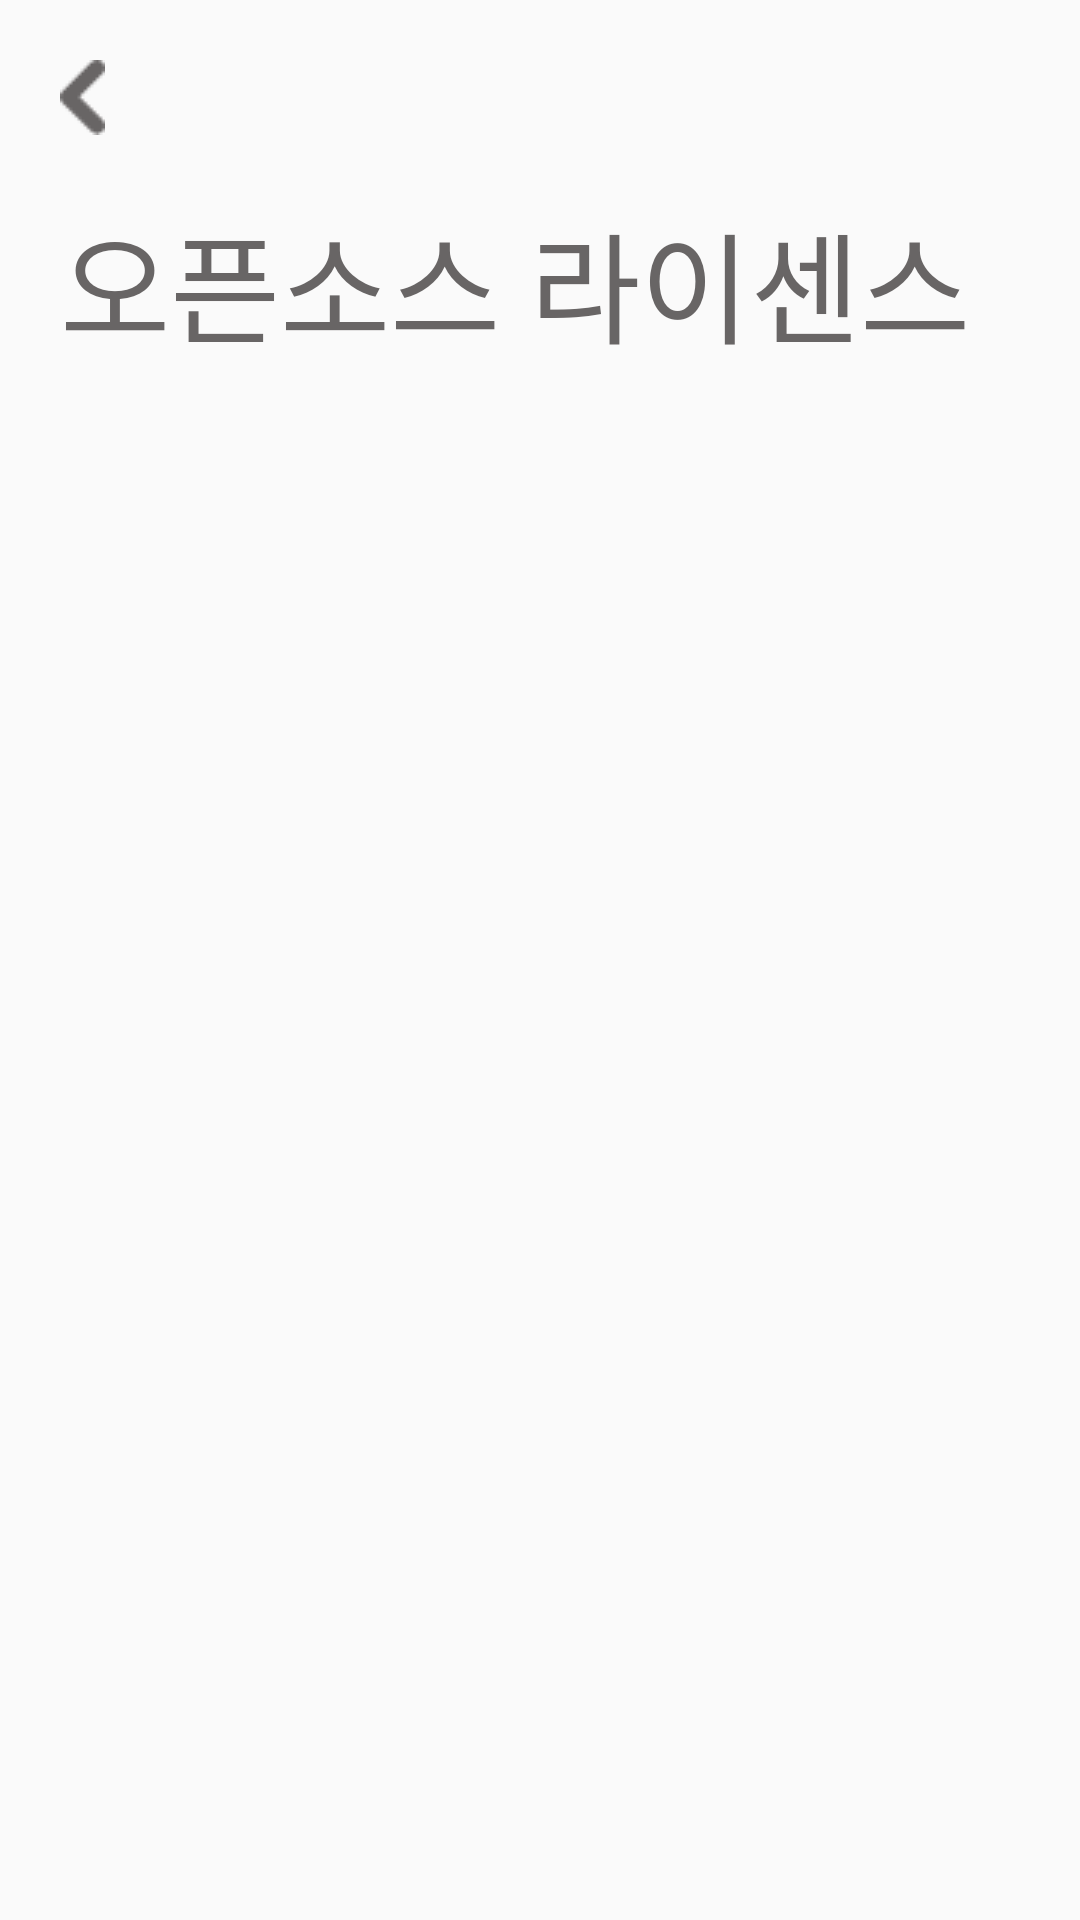

Screen size 1080w x 1920h. Icon name, then its box in pixels as (x1, y1, x2, y2):
back: (60, 60, 105, 135)
